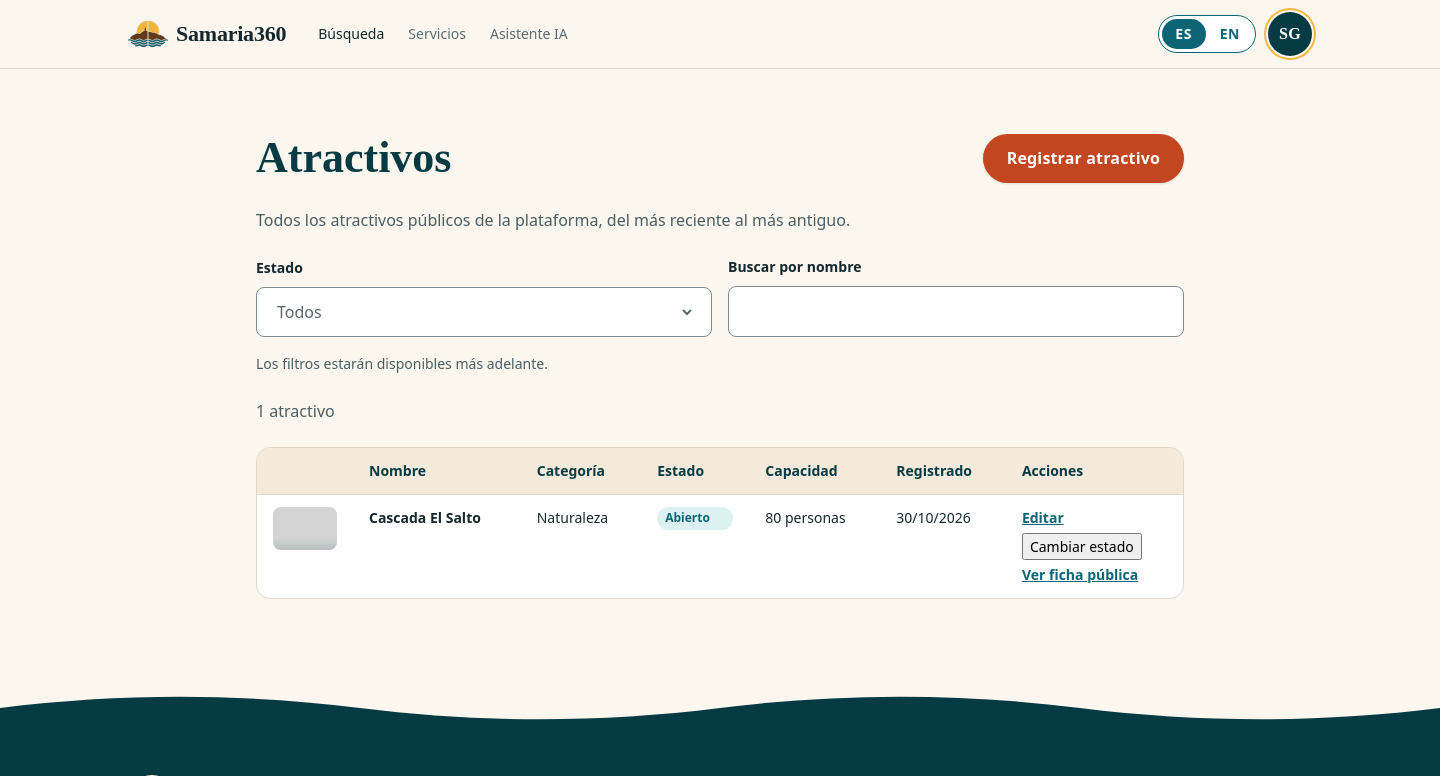
Test: Cambiar estado operativo › con 409 relee: si otro gestor eligió otro estado, conserva lo elegido y reenvía con la versión nueva
This screenshot has width=1440, height=776.
Click the button with aria-label "Cambiar el estado de Cascada El Salto". click: (1082, 547)
box: [1022,533,1142,560]
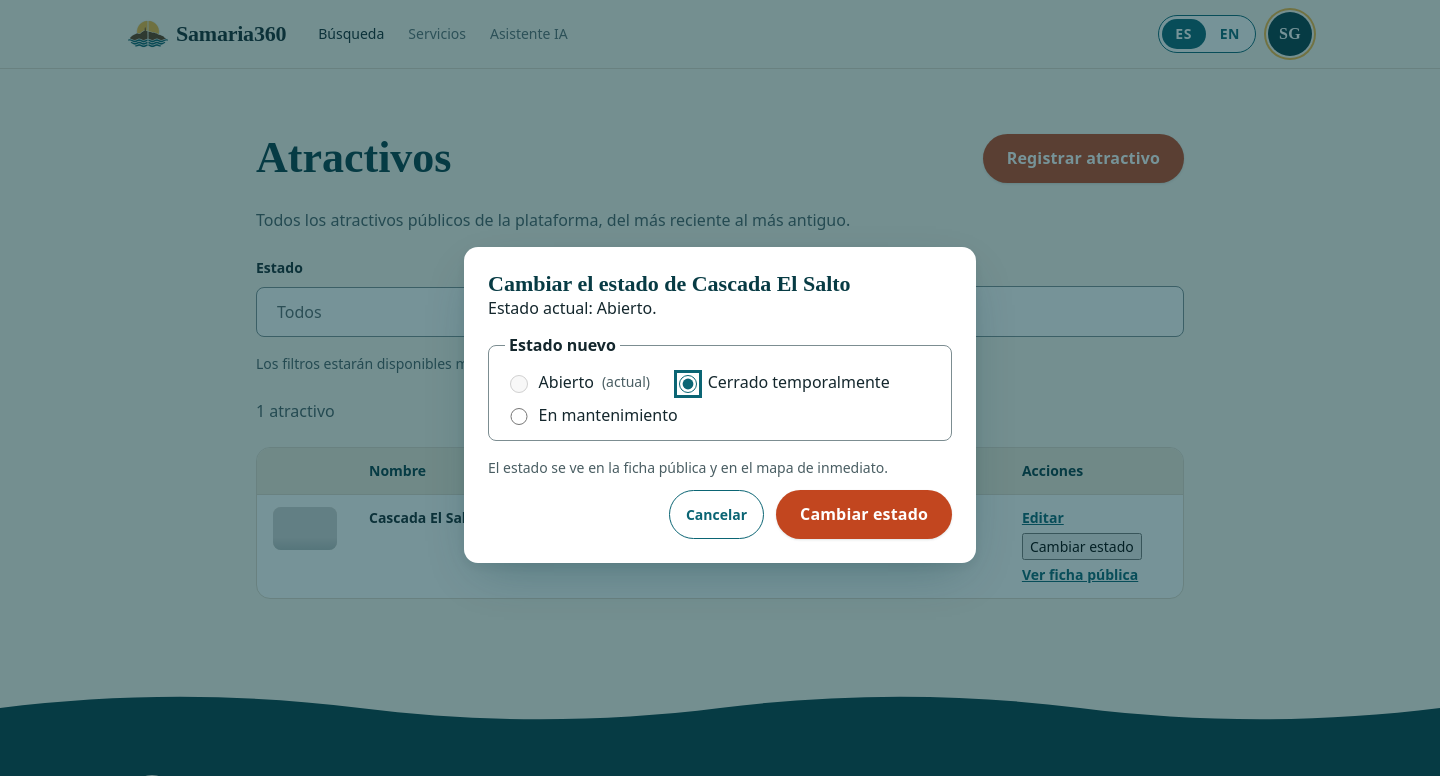
Click the radio button labelled "En mantenimiento". click: (519, 417)
box: [510,408,528,425]
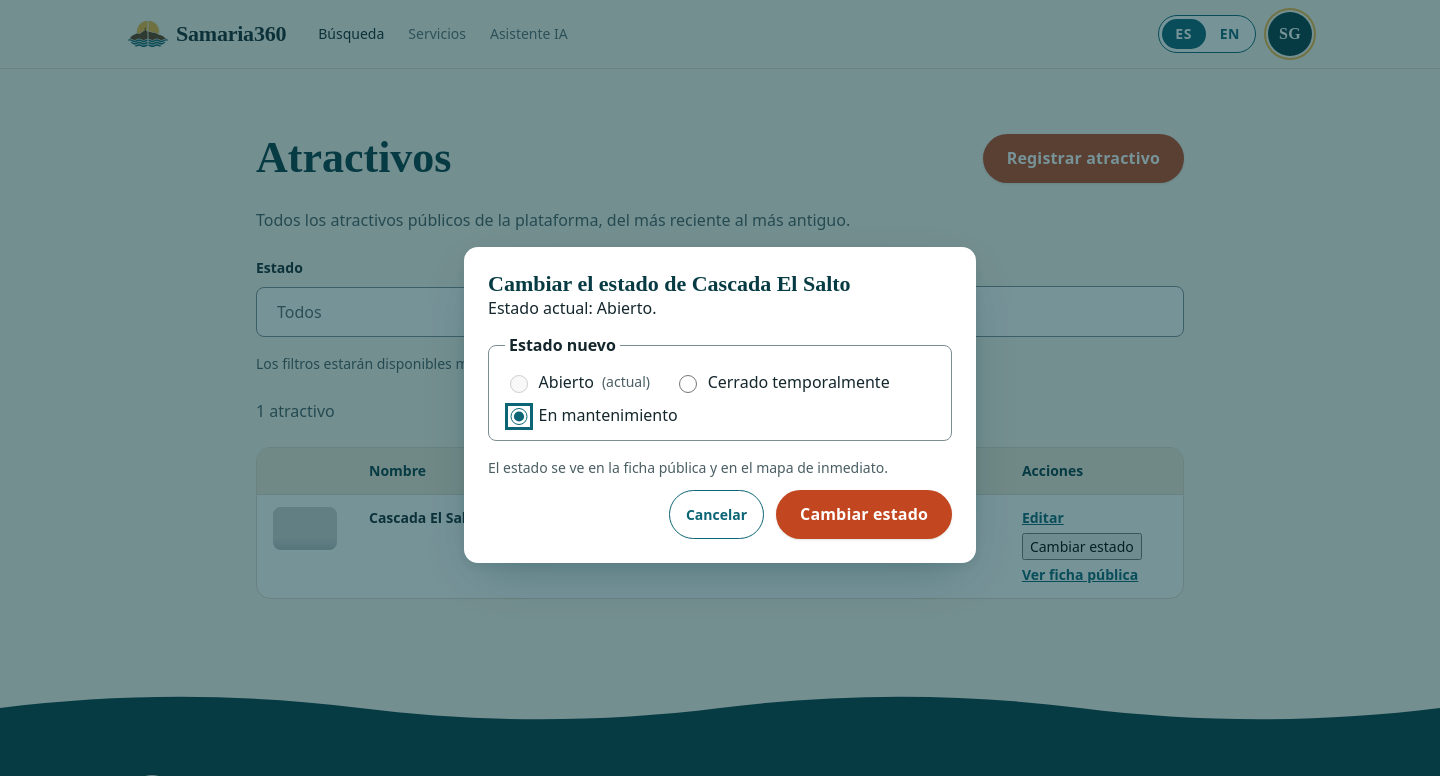
Click the button "Cambiar estado". click: (864, 515)
box: [776,490,952,539]
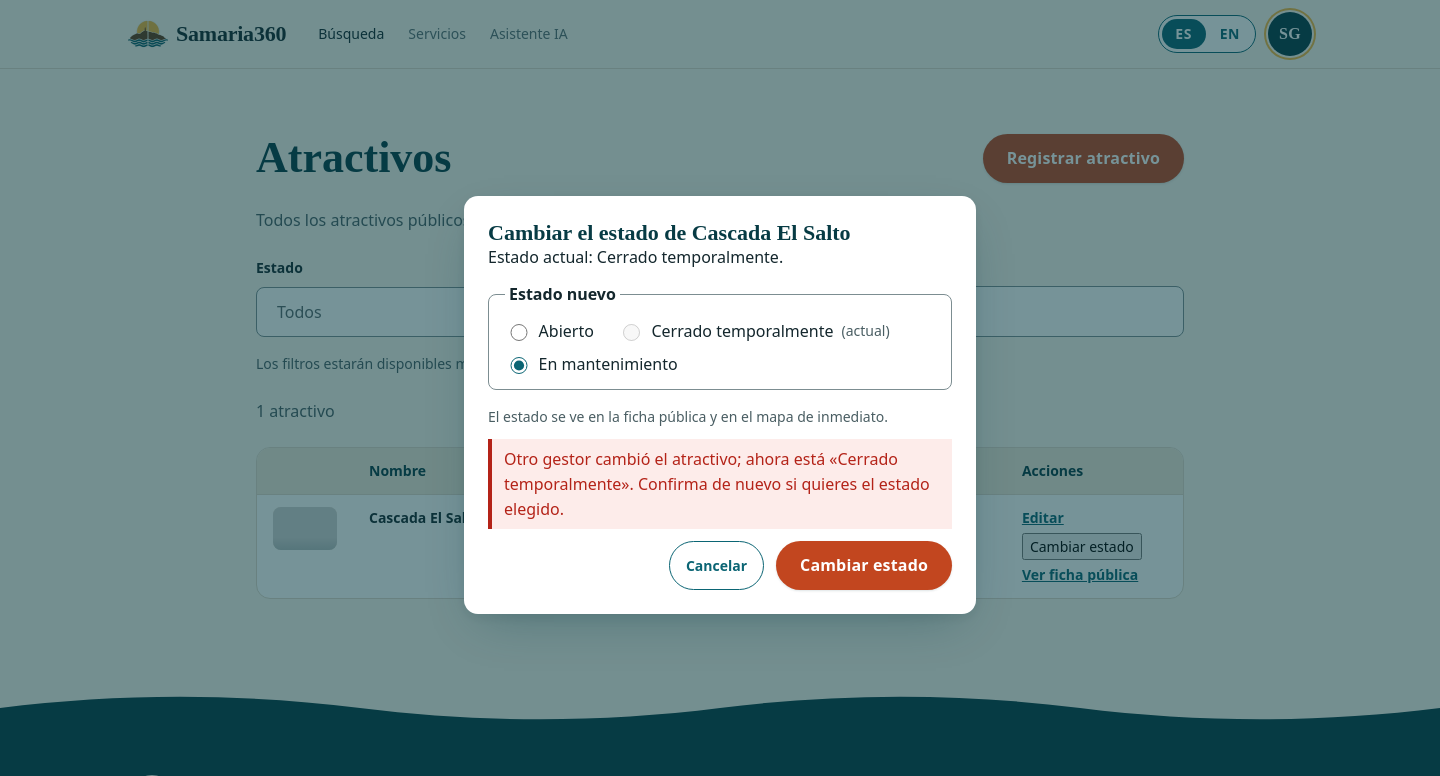
Check: the radio button labelled "En mantenimiento" is checked, box [510,357,528,374]
Check: the text "Otro gestor cambió el atractivo; ahora está «Cerrado temporalmente». Confirma de nuevo si quieres el estado elegido." is shown, box [504,448,930,520]
Click the button "Cambiar estado". click: (864, 566)
box: [776,541,952,590]
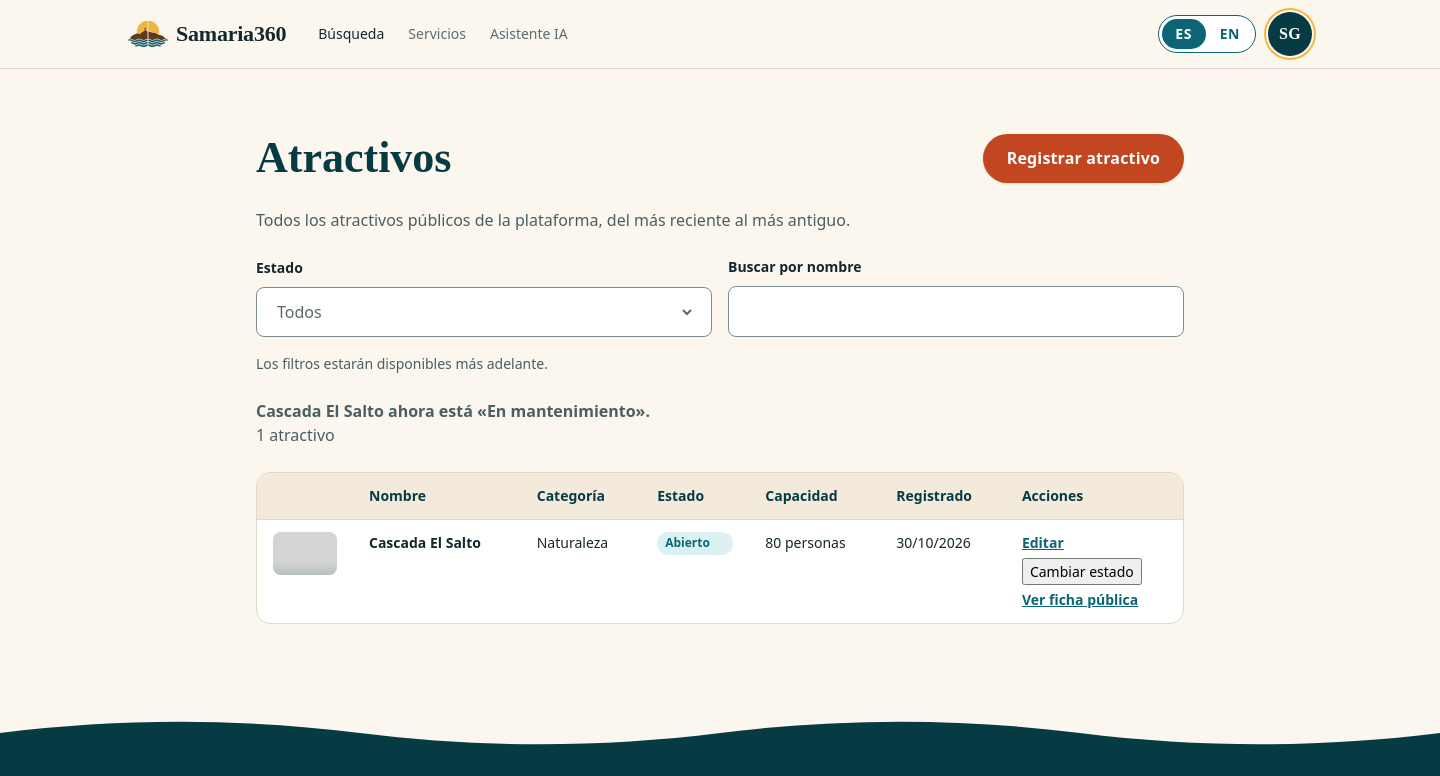
Check: the dialog is gone
